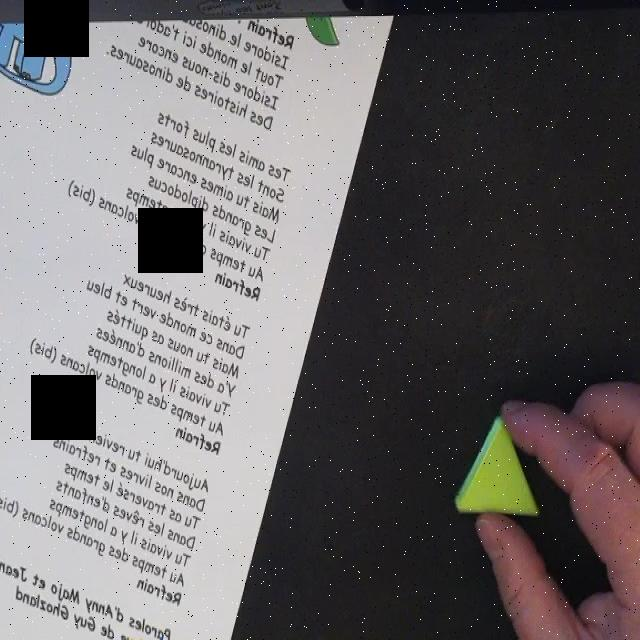triangle: (456, 416, 540, 516)
